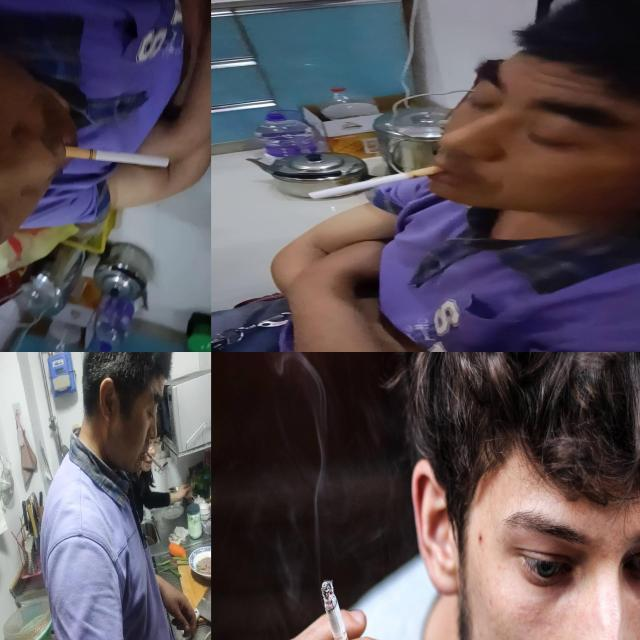smoking: (310, 166, 444, 200), (64, 146, 170, 170), (322, 579, 352, 640), (146, 450, 162, 469)
